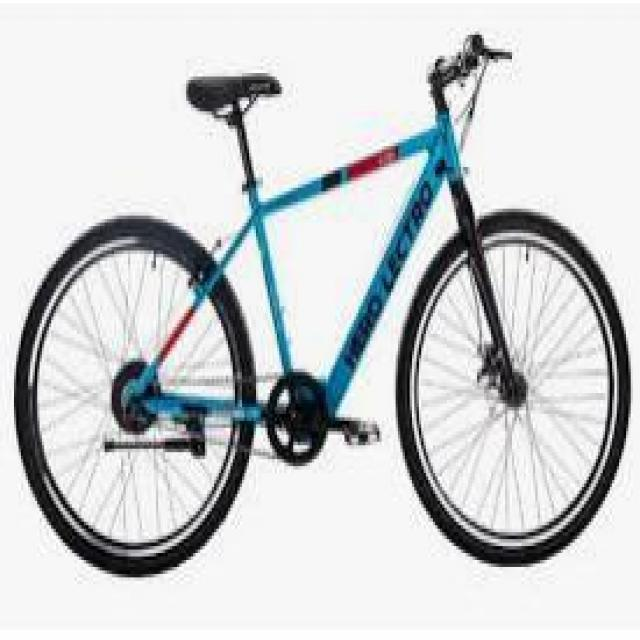bicycle: (31, 36, 639, 596)
